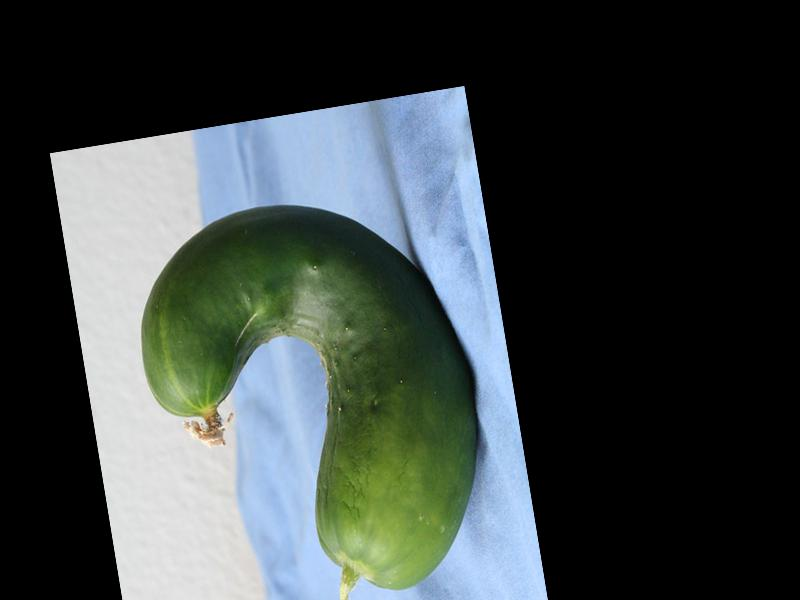Cucumber: (120, 176, 503, 600)
